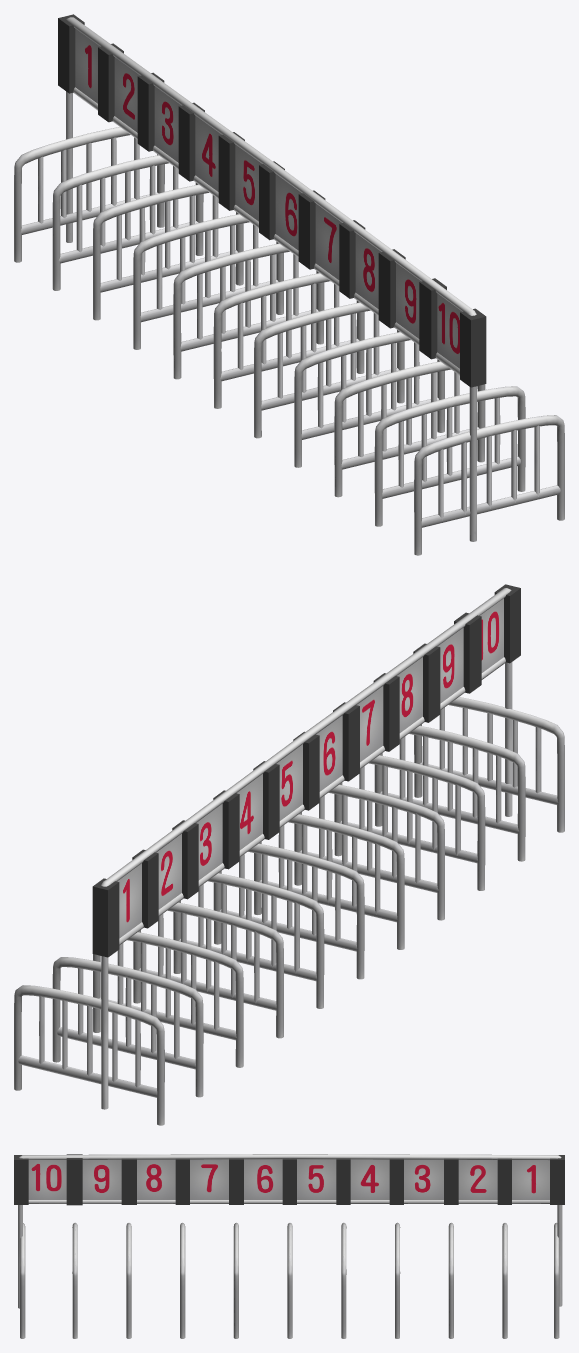
3 views of the same model, one above another, from view 1: azimuth 30°, elevation 25°; view 2: azimuth 150°, elevation 25°; view 3: azimuth 270°, elevation 25° (orthographic). The views are drawn at different scales.
Visible parts, largest first — view 1: Box03; view 2: Box03; view 3: Box03.
Boxes of the visible parts, x1,y1,x2,y2 form: Box03: (14, 14, 564, 555); Box03: (14, 584, 564, 1125); Box03: (14, 1154, 564, 1338).
Size of the model in its own units: 7.7 by 36.76 by 11.38.
